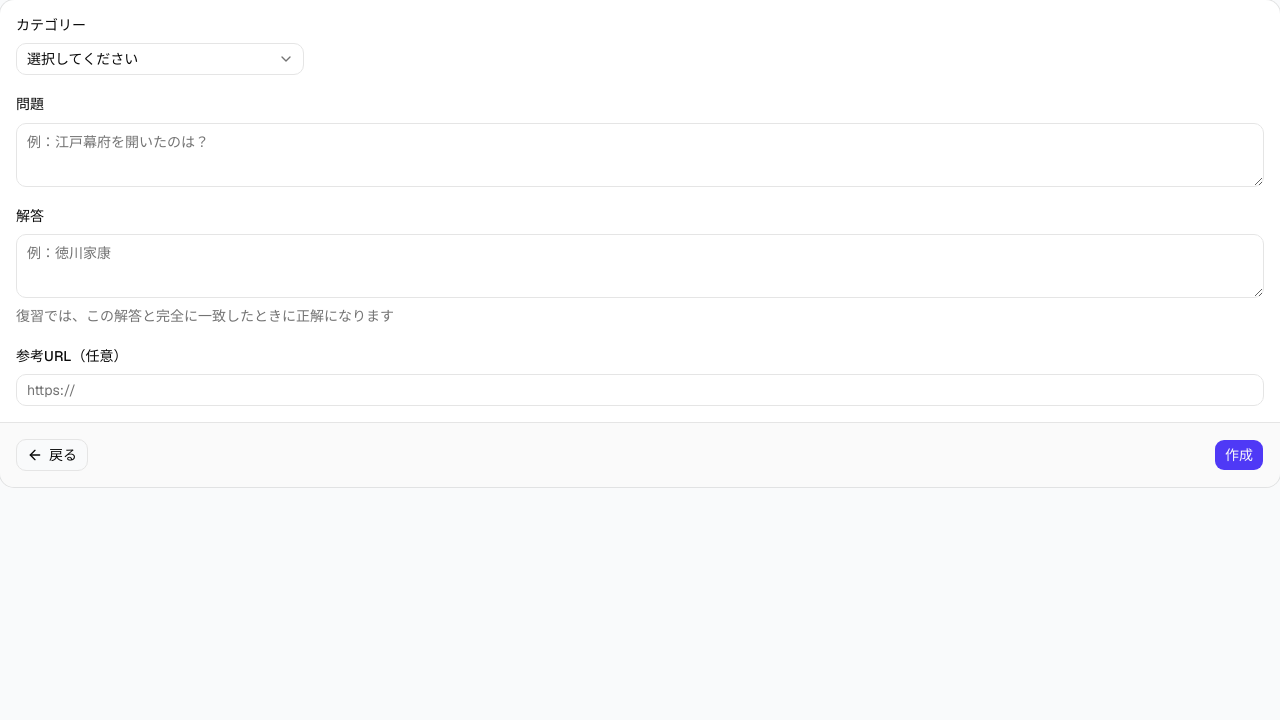
QuestionForm › アクションが保存失敗を返すと、フォーム全体のエラーを表示する
Click the button "作成".
click(1239, 455)  # box [1214,439,1264,471]
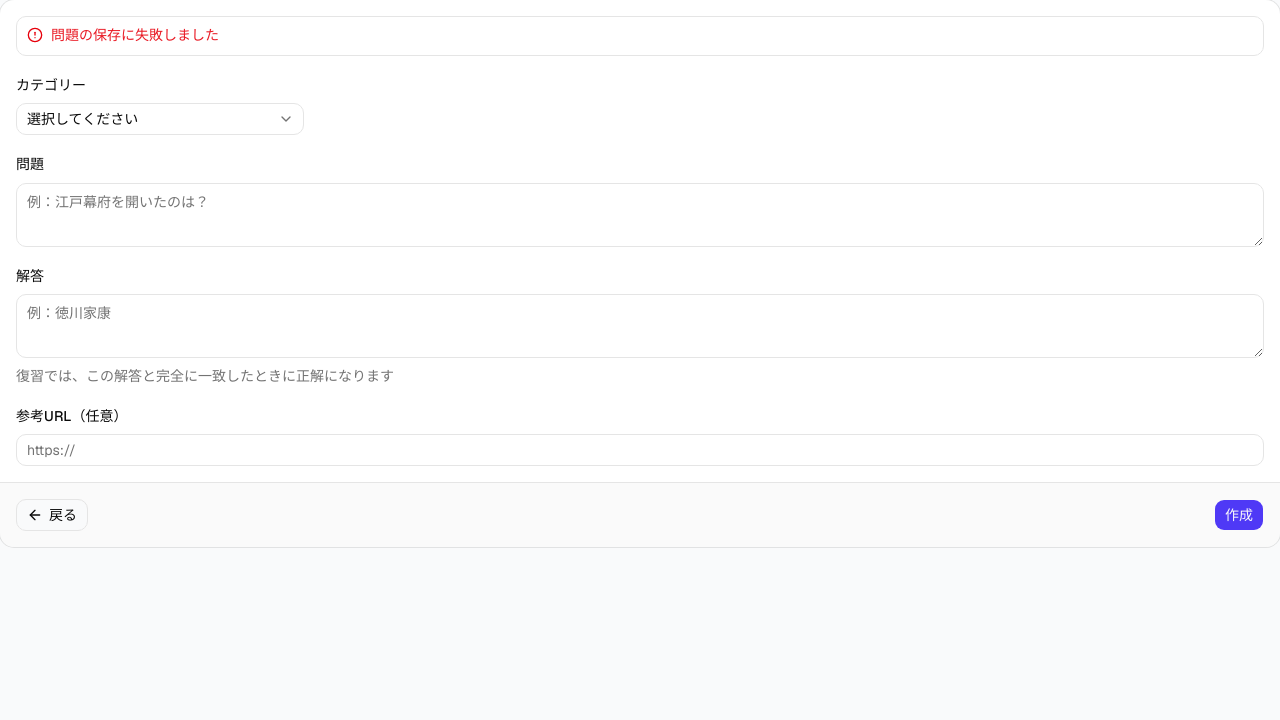
Expected: the message reads "問題の保存に失敗しました", [51,26,219,44]
